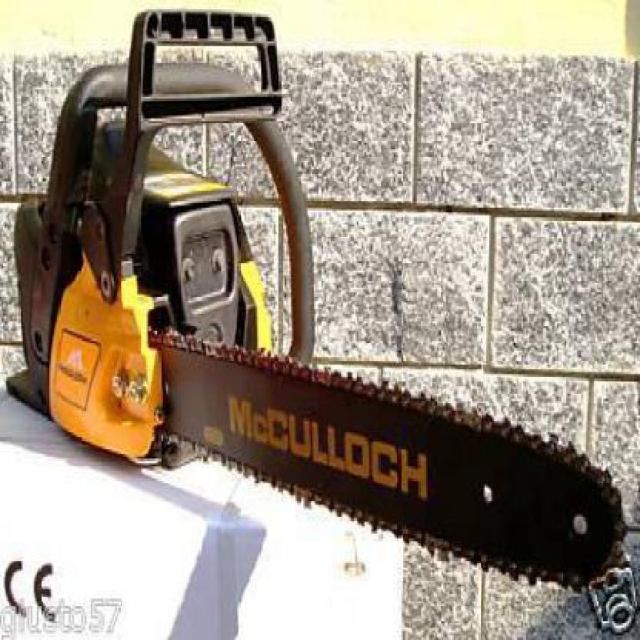Chainsaw: (6, 4, 629, 602)
